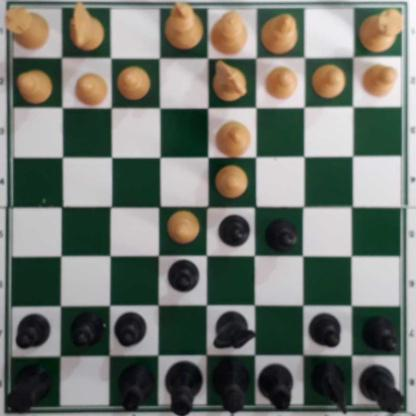black-bishop: (258, 364, 296, 413), (116, 367, 154, 415)
black-king: (166, 361, 205, 415)
black-knight: (312, 364, 350, 411), (214, 315, 257, 351)
black-pawn: (364, 317, 400, 354), (168, 259, 202, 296), (17, 316, 52, 351), (265, 221, 301, 255), (312, 314, 345, 350), (117, 314, 150, 350), (220, 215, 253, 250), (72, 315, 105, 350)
black-queen: (213, 359, 250, 415)
black-rook: (6, 363, 54, 415), (358, 363, 404, 415)
white-bishop: (264, 15, 299, 58), (216, 122, 252, 159)
white-king: (169, 5, 203, 55)
white-knight: (71, 5, 106, 55), (213, 61, 250, 103)
white-pawn: (19, 70, 54, 106), (119, 69, 154, 104), (266, 68, 301, 103), (77, 73, 111, 109), (362, 65, 399, 98), (312, 65, 347, 99), (215, 169, 250, 203), (169, 214, 203, 248)
white-queen: (211, 9, 249, 57)
white-rook: (359, 9, 405, 53), (8, 7, 52, 53)
